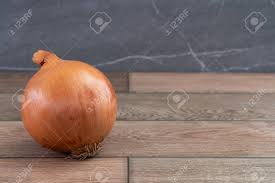onion: (21, 48, 119, 161)
